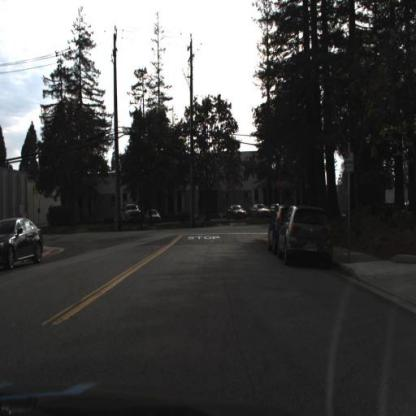car: (277, 201, 335, 271), (279, 203, 336, 265), (1, 217, 44, 272), (266, 202, 287, 259), (223, 199, 250, 225), (250, 199, 273, 225), (120, 202, 143, 225), (144, 207, 164, 226)
